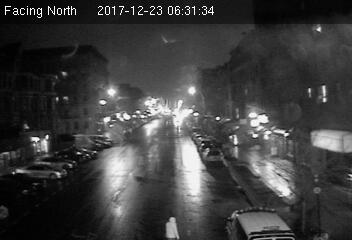car: (201, 147, 224, 164)
police: (219, 206, 301, 240)
